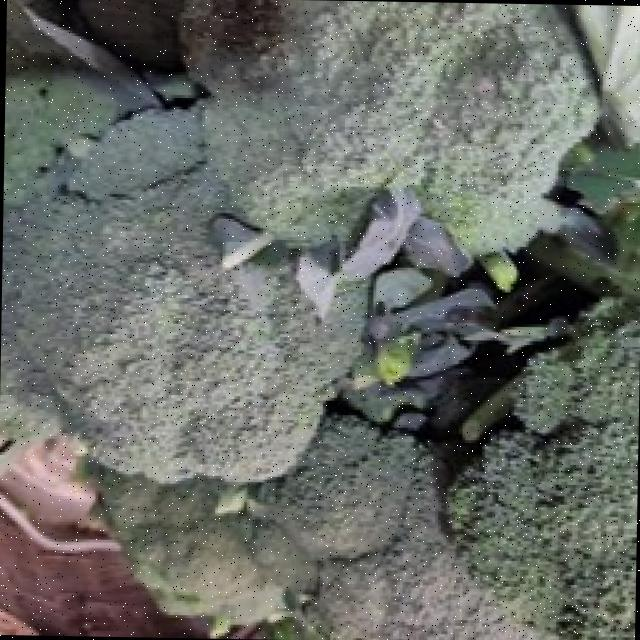Broccoli: (0, 112, 368, 482), (0, 112, 368, 482), (179, 0, 599, 254), (179, 0, 597, 254), (90, 465, 315, 623), (90, 465, 315, 623), (304, 523, 535, 640), (304, 523, 535, 640), (253, 416, 423, 558), (254, 416, 424, 557)
